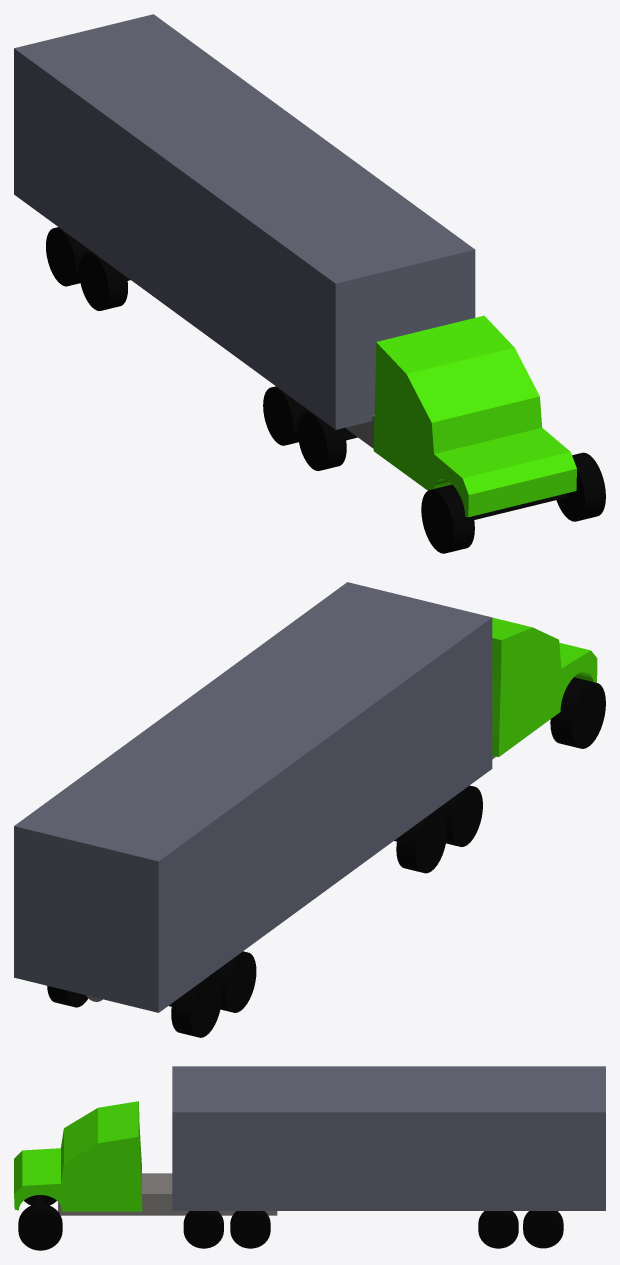
The model's file is SM_Truck.fbx.
3 renders of one model, top to bottom at view 1: azimuth 30°, elevation 25°; view 2: azimuth 150°, elevation 25°; view 3: azimuth 270°, elevation 25°, orthographic. The views are drawn at different scales.
Parts seen in each view (by area): view 1: Truck; view 2: Truck; view 3: Truck.
Part boxes in pixels (left/top/right/bottom): Truck: left=14, top=14, right=605, bottom=553; Truck: left=14, top=582, right=605, bottom=1037; Truck: left=14, top=1066, right=605, bottom=1250.
Bounding box in the file's own units: 91.05 × 113 × 443.
